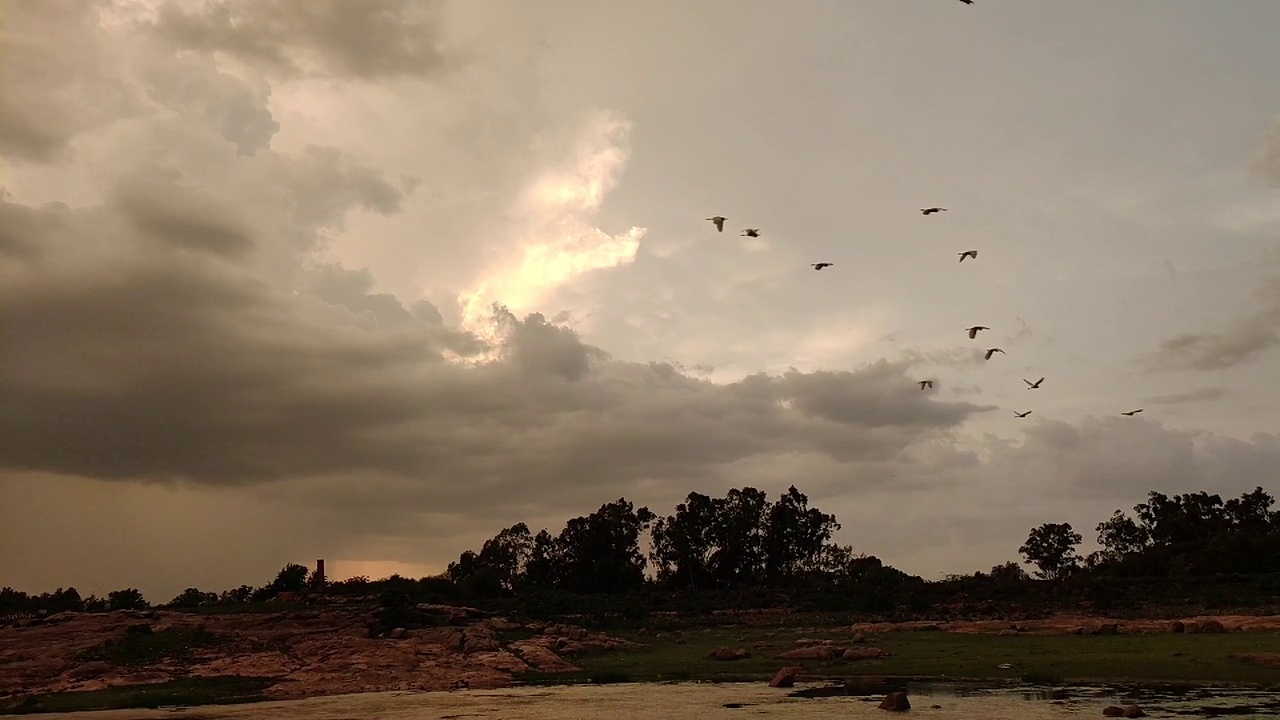bird: (705, 214, 729, 232), (963, 324, 990, 339), (918, 205, 946, 217), (984, 345, 1004, 360), (1023, 375, 1044, 389), (956, 249, 977, 263), (1120, 407, 1143, 417), (812, 261, 832, 272), (741, 227, 761, 237), (917, 379, 936, 389), (1013, 407, 1031, 417)
